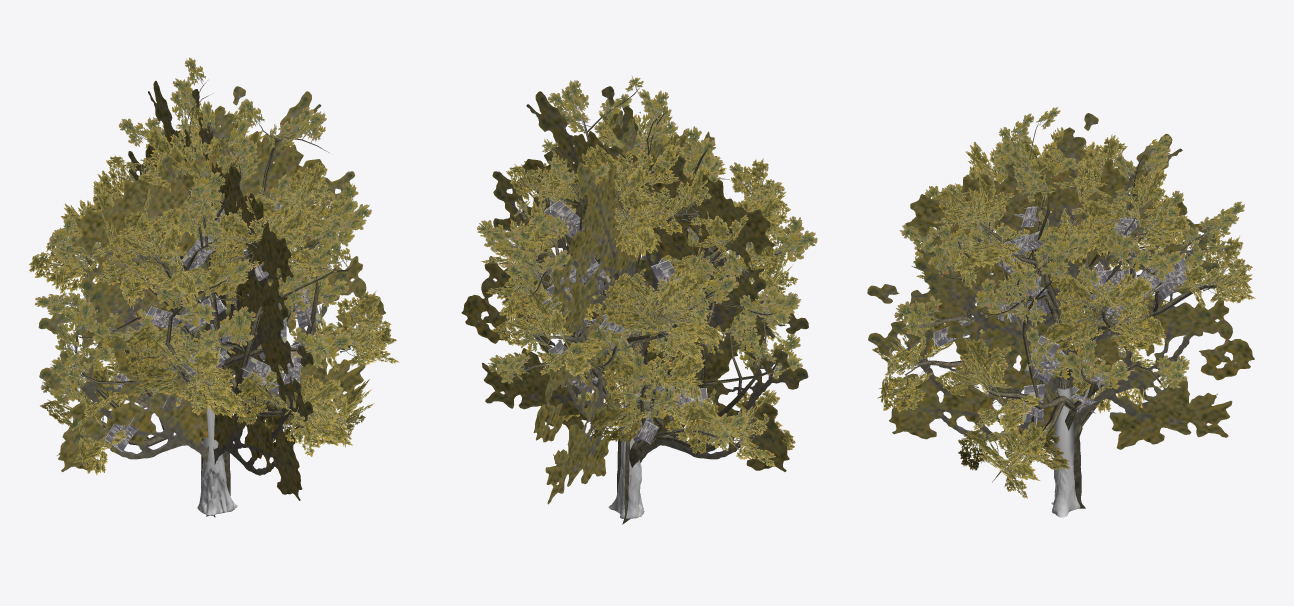
The model's file is Tree-Oak4B.fbx.
3 renders of one model, left to right at view 1: azimuth 30°, elevation 25°; view 2: azimuth 150°, elevation 25°; view 3: azimuth 270°, elevation 25°, orthographic. The views are drawn at different scales.
Parts seen in each view (by area): view 1: Tree-Oak4B_LOD0, Billboard-Oak4B; view 2: Tree-Oak4B_LOD0, Billboard-Oak4B; view 3: Tree-Oak4B_LOD0, Billboard-Oak4B.
Boxes of the visible parts, x1,y1,x2,y2 form: Tree-Oak4B_LOD0: (29, 57, 399, 515); Billboard-Oak4B: (38, 81, 385, 517); Tree-Oak4B_LOD0: (477, 75, 817, 518); Billboard-Oak4B: (461, 86, 808, 524); Tree-Oak4B_LOD0: (872, 107, 1255, 517); Billboard-Oak4B: (867, 113, 1254, 508).
Size of what is drawn, in the model's own units: 2745 by 3164 by 2982.
